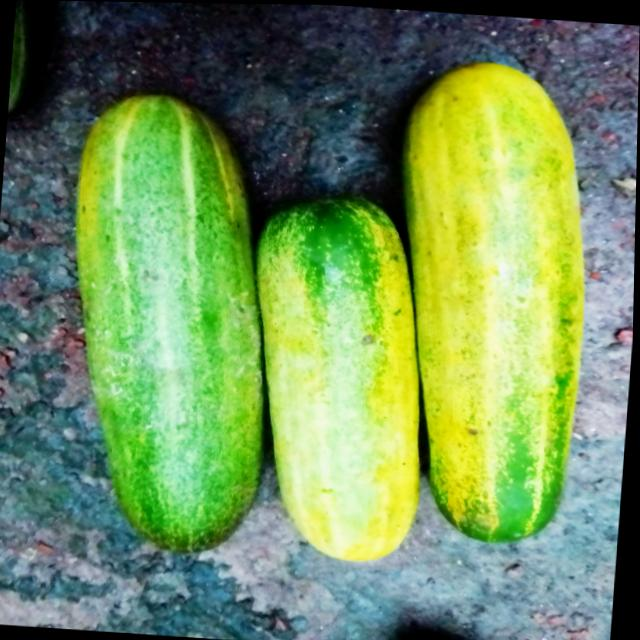Fresh-Cucumber: (374, 50, 606, 551), (51, 87, 292, 561), (238, 184, 442, 568)
